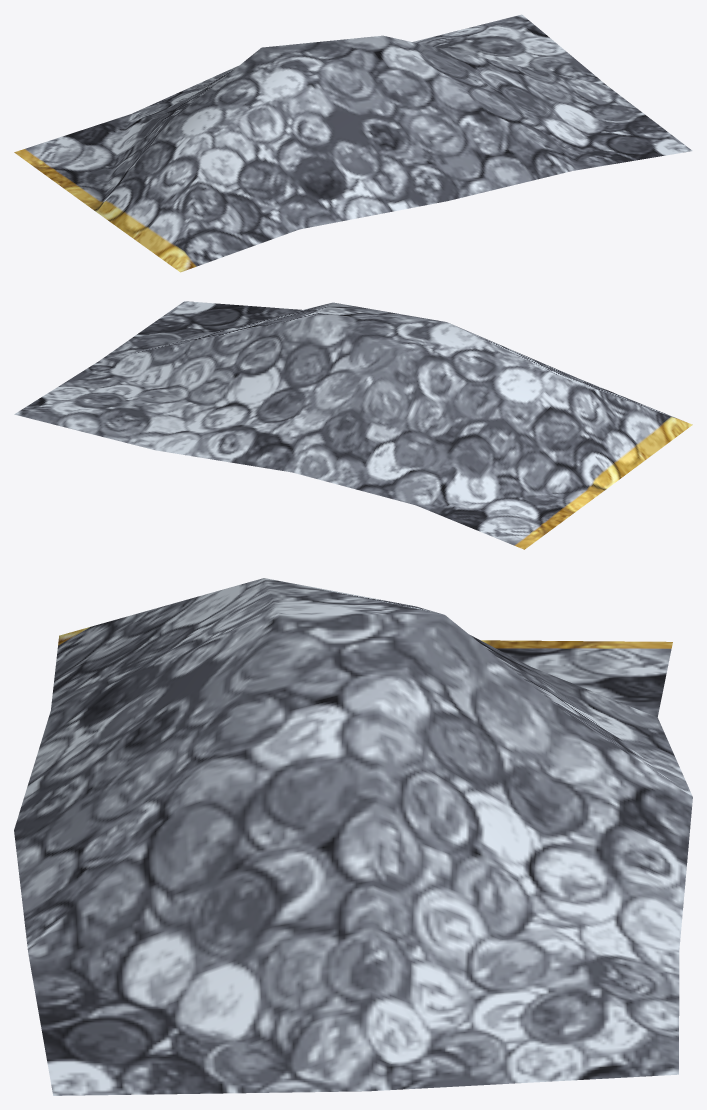
The model's file is ChestALootC.FBX.
3 views of the same model, one above another, from view 1: azimuth 30°, elevation 25°; view 2: azimuth 150°, elevation 25°; view 3: azimuth 270°, elevation 25° (orthographic). The views are drawn at different scales.
Parts seen in each view (by area): view 1: chestALootC; view 2: chestALootC; view 3: chestALootC.
Boxes of the visible parts, x1,y1,x2,y2 form: chestALootC: (14,14,692,272); chestALootC: (14,301,692,549); chestALootC: (14,578,692,1095).
Size of the model in its own units: 98.66 by 19.4 by 61.99.
